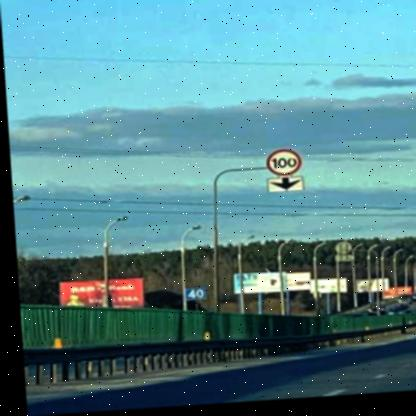Speed Limit -100-: (264, 148, 298, 182)
